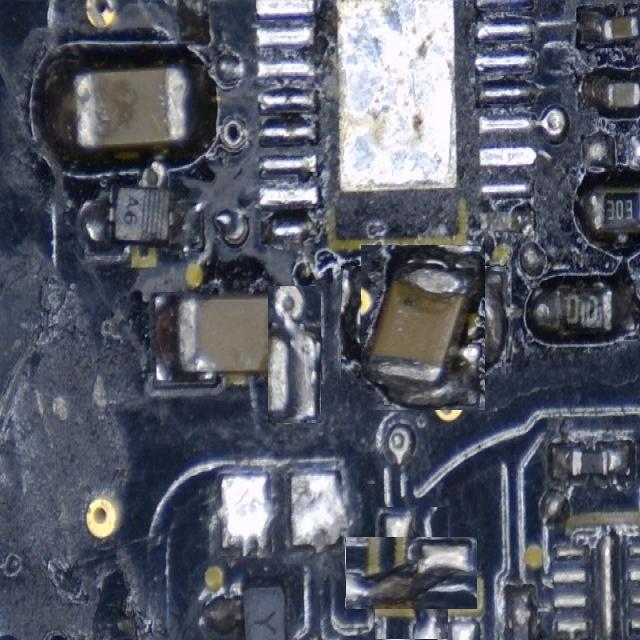Incorrect_installation: (361, 246, 484, 409)
Short_circuit: (346, 538, 476, 608), (269, 287, 321, 421)
